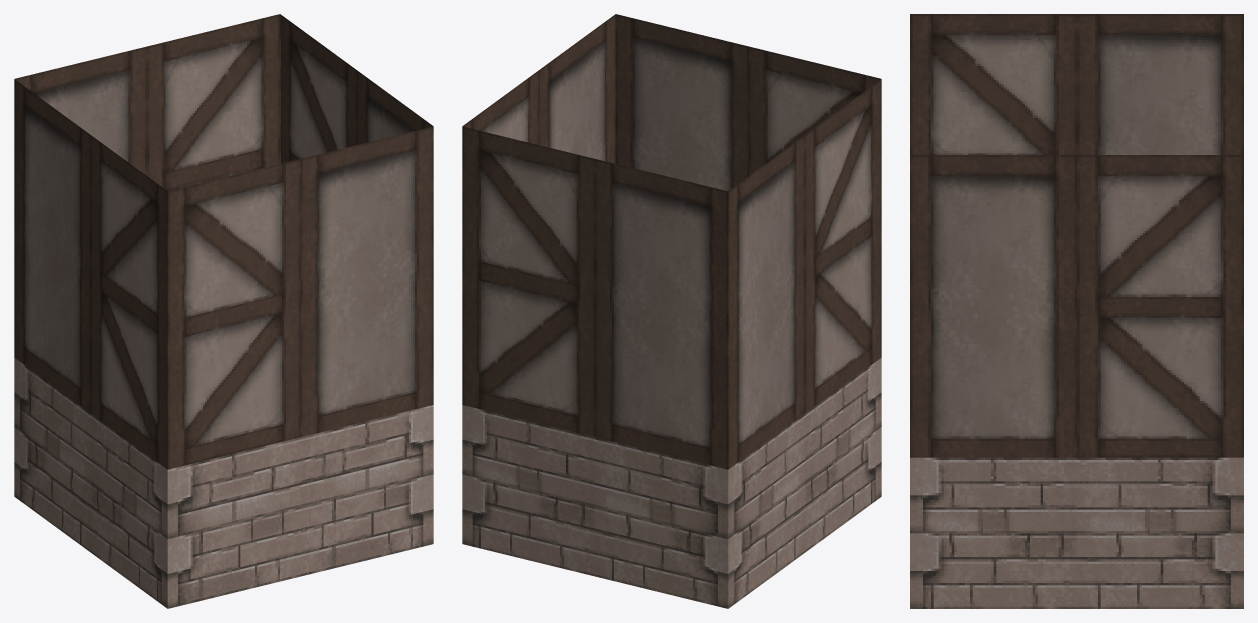
File: plaster_wall_stone_base_half_alt.glb
3 renders of one model, left to right at view 1: azimuth 30°, elevation 25°; view 2: azimuth 150°, elevation 25°; view 3: azimuth 270°, elevation 25°, orthographic. The views are drawn at different scales.
Visible parts, largest first — view 1: plaster_wall_stone_base_half_alt; view 2: plaster_wall_stone_base_half_alt; view 3: plaster_wall_stone_base_half_alt.
Boxes of the visible parts, box(x1,y1,x2,y2) form: plaster_wall_stone_base_half_alt: box(14, 14, 433, 608); plaster_wall_stone_base_half_alt: box(462, 14, 881, 608); plaster_wall_stone_base_half_alt: box(910, 14, 1243, 608).
Size of the model in its own units: 2 by 3 by 2.
1 material, 1 textured.
